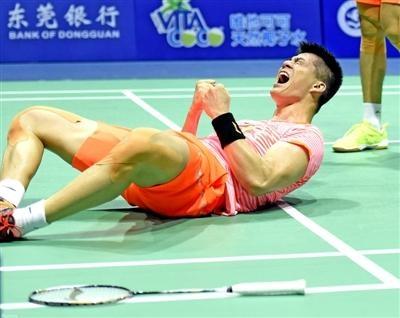falling: (1, 24, 342, 229)
